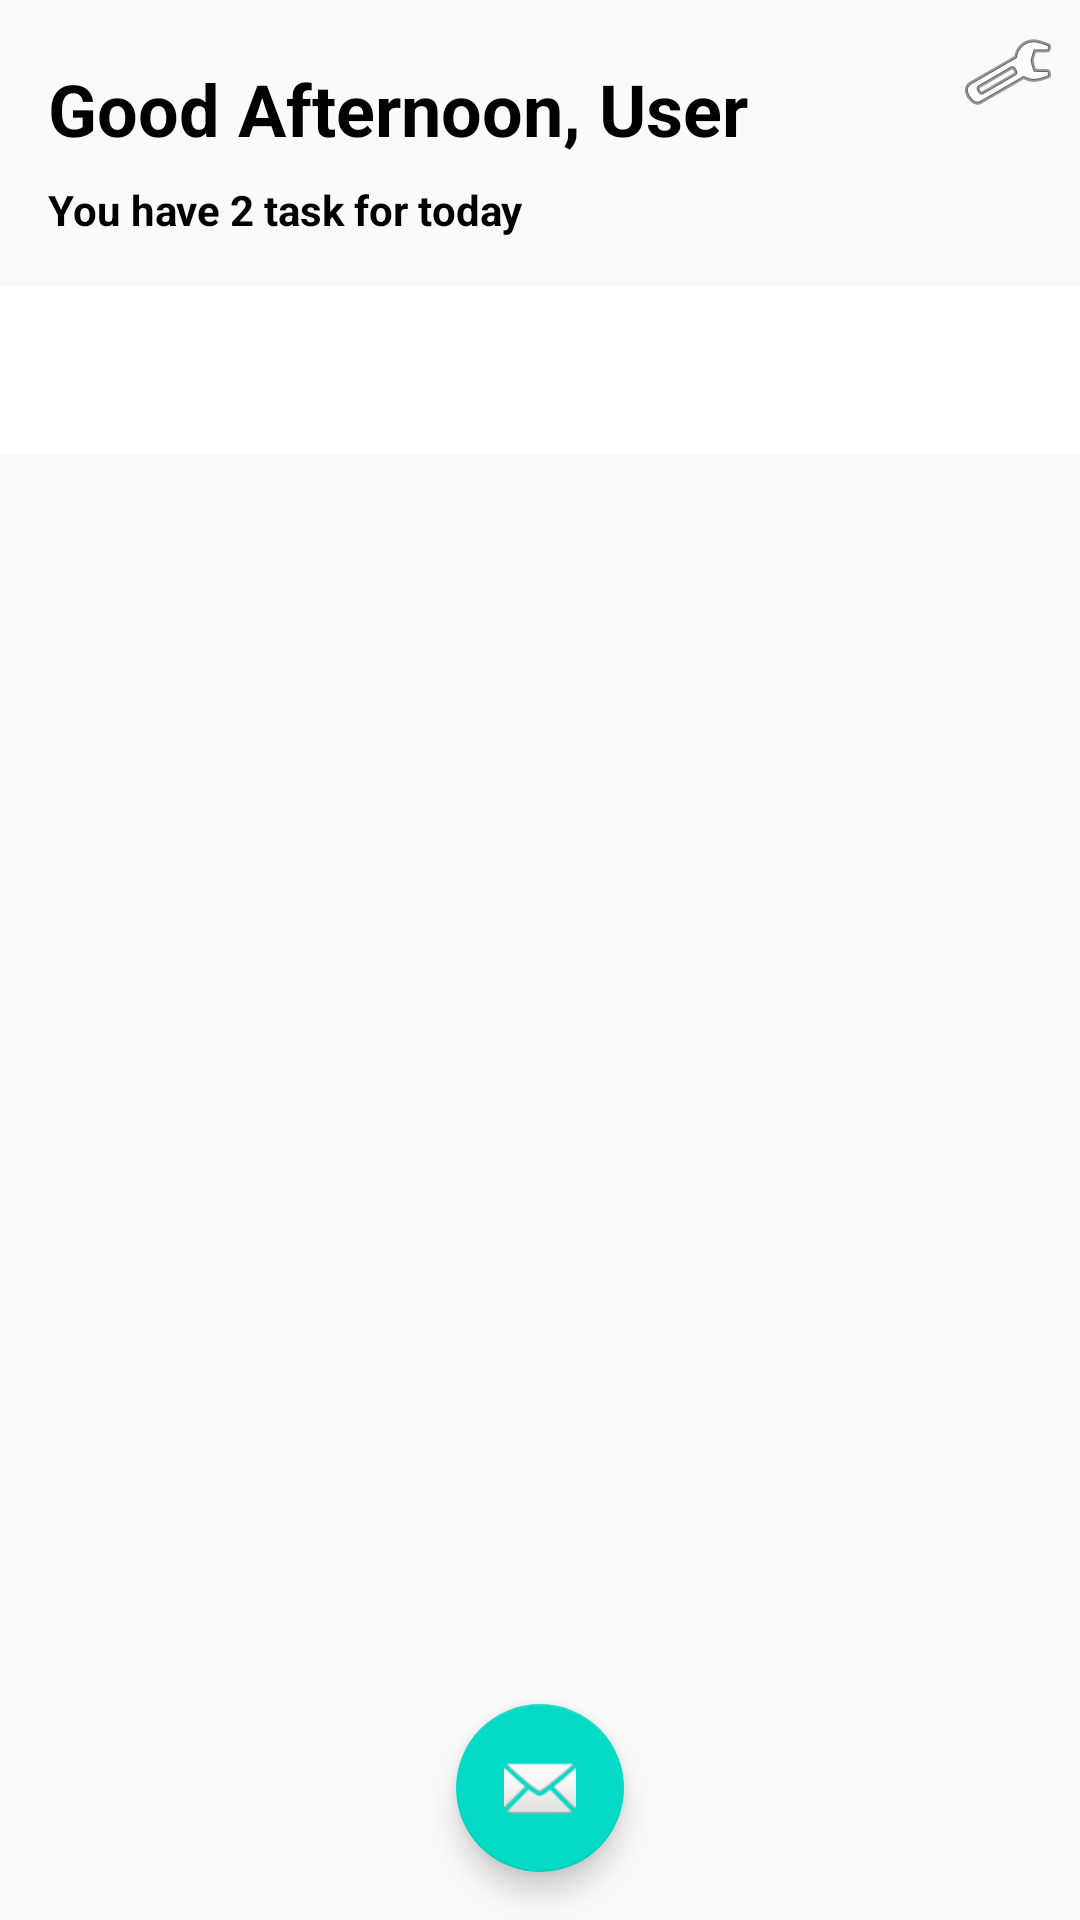

Point at icon controls on the screen. Image size 1080*1920, points as (x,y).
email: (540,1788)
Settings: (1008,72)
